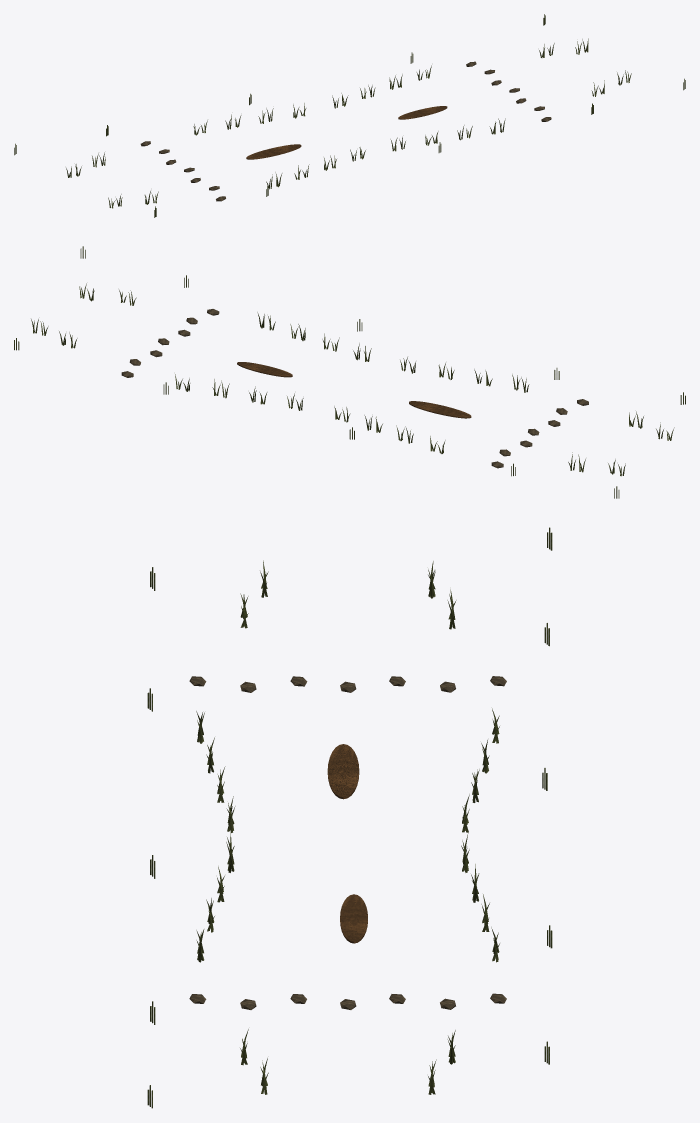
The model's file is floodplain_dressing_pack.glb.
The picture shows the model from 3 angles, top to bottom: view 1: azimuth 30°, elevation 25°; view 2: azimuth 150°, elevation 25°; view 3: azimuth 270°, elevation 25°; orthographic projection. The views are drawn at different scales.
Visible parts, largest first — view 1: floodplain_dressing_pack; view 2: floodplain_dressing_pack; view 3: floodplain_dressing_pack.
Boxes of the visible parts, box(x1,y1,x2,y2) form: floodplain_dressing_pack: box(14, 14, 685, 217); floodplain_dressing_pack: box(14, 246, 685, 498); floodplain_dressing_pack: box(147, 527, 552, 1108).
Size of the model in its own units: 56.35 by 2.14 by 17.22.
1 material, 1 textured.
